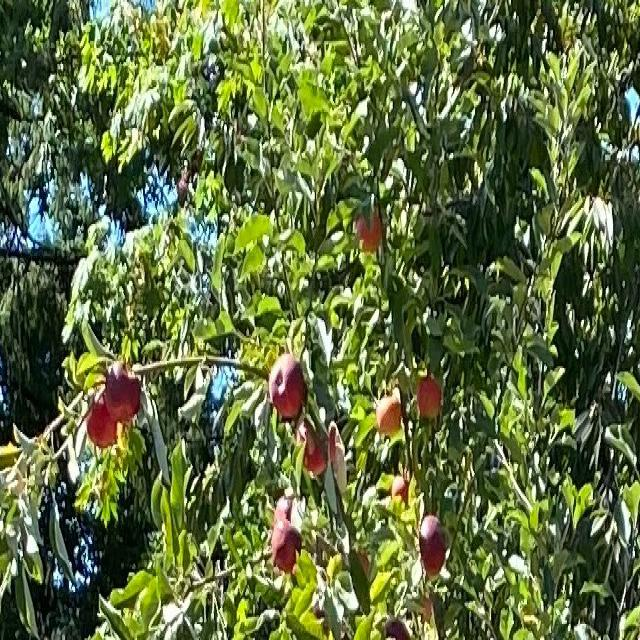Apples: (270, 356, 303, 416), (107, 362, 141, 420), (303, 428, 335, 474), (88, 398, 117, 446), (419, 515, 444, 569), (273, 524, 302, 570), (419, 373, 443, 416), (357, 210, 381, 250), (377, 394, 401, 434), (384, 615, 411, 638), (275, 494, 293, 528), (392, 475, 408, 503)
